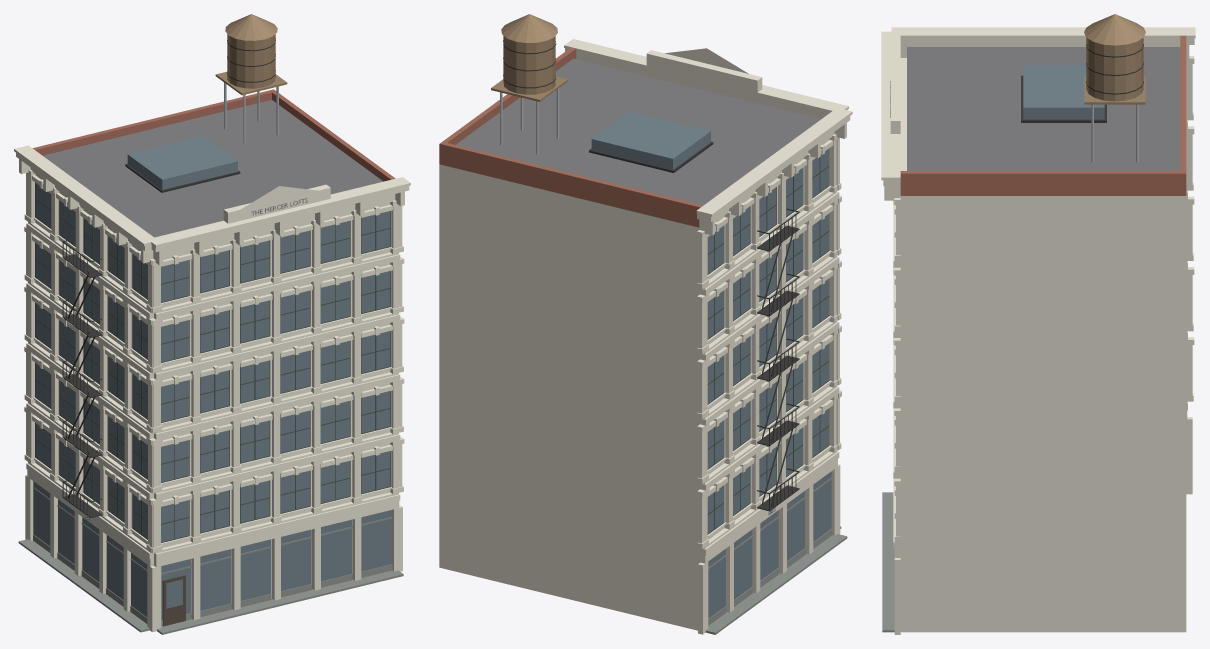
File: corner_loft.glb
3 views of the same model, side by side, from view 1: azimuth 30°, elevation 25°; view 2: azimuth 150°, elevation 25°; view 3: azimuth 270°, elevation 25° (orthographic). The views are drawn at different scales.
Parts seen in each view (by area): view 1: corner_loft; view 2: corner_loft; view 3: corner_loft.
Part boxes in pixels (<box>): corner_loft: <box>14,14,410,634</box>; corner_loft: <box>439,14,852,634</box>; corner_loft: <box>881,14,1195,634</box>.
Bounding box in the file's own units: 17.55 × 31.8 × 15.4.
